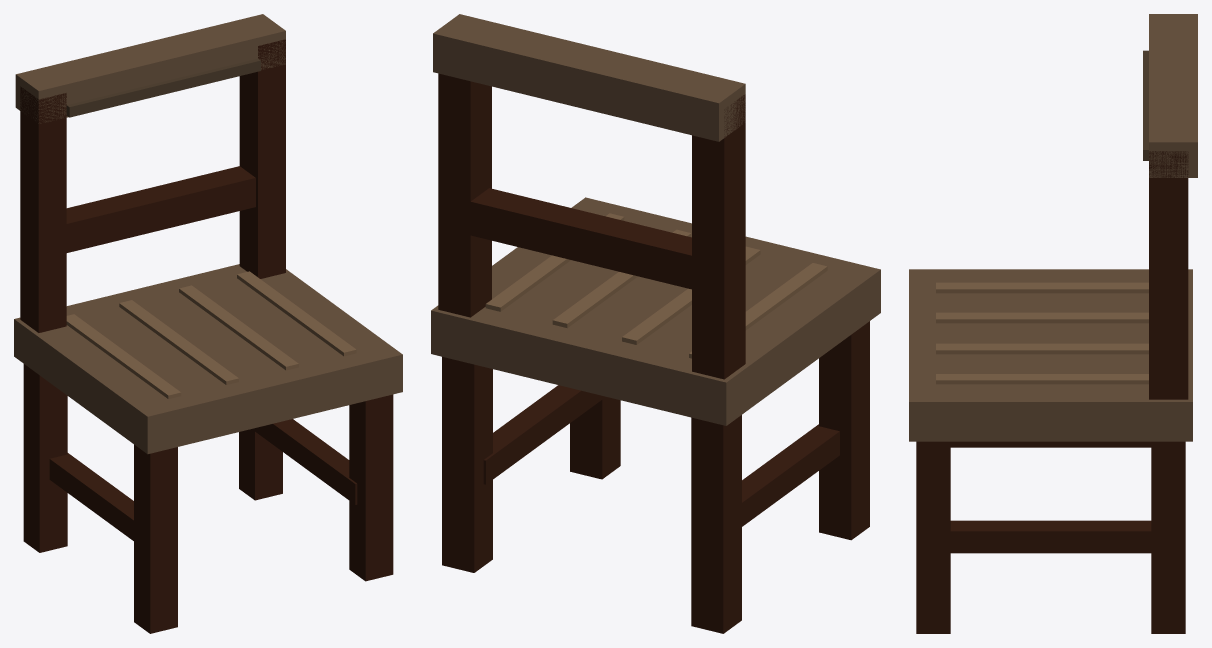
File: CMU3DWoodChair.glb
The picture shows the model from 3 angles, left to right: view 1: azimuth 30°, elevation 25°; view 2: azimuth 150°, elevation 25°; view 3: azimuth 270°, elevation 25°; orthographic projection. The views are drawn at different scales.
Visible parts, largest first — view 1: wood seat, top rail, left back post, right back post, back crossrail, leg 1, leg 2, seat worn grain (×4), leg 3, right lower stretcher, left lower stretcher, top rail inner edge (+1 smaller); view 2: wood seat, top rail, left back post, back crossrail, right back post, leg 3, leg 4, leg 1, seat worn grain (×4), right lower stretcher, left lower stretcher, leg 2; view 3: wood seat, seat worn grain (×4), right back post, top rail, right lower stretcher, leg 2, leg 4, left lower stretcher, top rail inner edge.
Part boxes in pixels (bbox=[...]): wood seat: bbox=[14, 264, 402, 454]; top rail: bbox=[15, 14, 285, 123]; left back post: bbox=[20, 86, 66, 332]; right back post: bbox=[239, 39, 285, 278]; back crossrail: bbox=[66, 166, 255, 252]; leg 1: bbox=[134, 444, 177, 633]; leg 2: bbox=[349, 394, 393, 581]; seat worn grain (×4): bbox=[66, 271, 356, 399]; leg 3: bbox=[23, 364, 67, 552]; right lower stretcher: bbox=[252, 419, 357, 504]; left lower stretcher: bbox=[49, 453, 133, 540]; top rail inner edge: bbox=[66, 58, 260, 117]; wood seat: bbox=[431, 197, 880, 425]; top rail: bbox=[433, 14, 745, 141]; left back post: bbox=[692, 94, 745, 379]; back crossrail: bbox=[453, 188, 710, 293]; right back post: bbox=[438, 73, 491, 317]; leg 3: bbox=[691, 415, 741, 633]; leg 4: bbox=[442, 356, 492, 572]; leg 1: bbox=[819, 321, 869, 540]; seat worn grain (×4): bbox=[485, 213, 827, 358]; right lower stretcher: bbox=[483, 385, 605, 484]; left lower stretcher: bbox=[742, 424, 839, 526]; leg 2: bbox=[570, 397, 620, 479]; wood seat: bbox=[909, 269, 1192, 441]; seat worn grain (×4): bbox=[936, 282, 1148, 384]; right back post: bbox=[1149, 151, 1188, 399]; top rail: bbox=[1149, 14, 1197, 177]; right lower stretcher: bbox=[950, 520, 1151, 553]; leg 2: bbox=[916, 441, 950, 633]; leg 4: bbox=[1151, 441, 1185, 633]; left lower stretcher: bbox=[950, 441, 1151, 447]; top rail inner edge: bbox=[1143, 50, 1148, 160].
Size of the model in its own units: 0.64 by 1.11 by 0.59.
